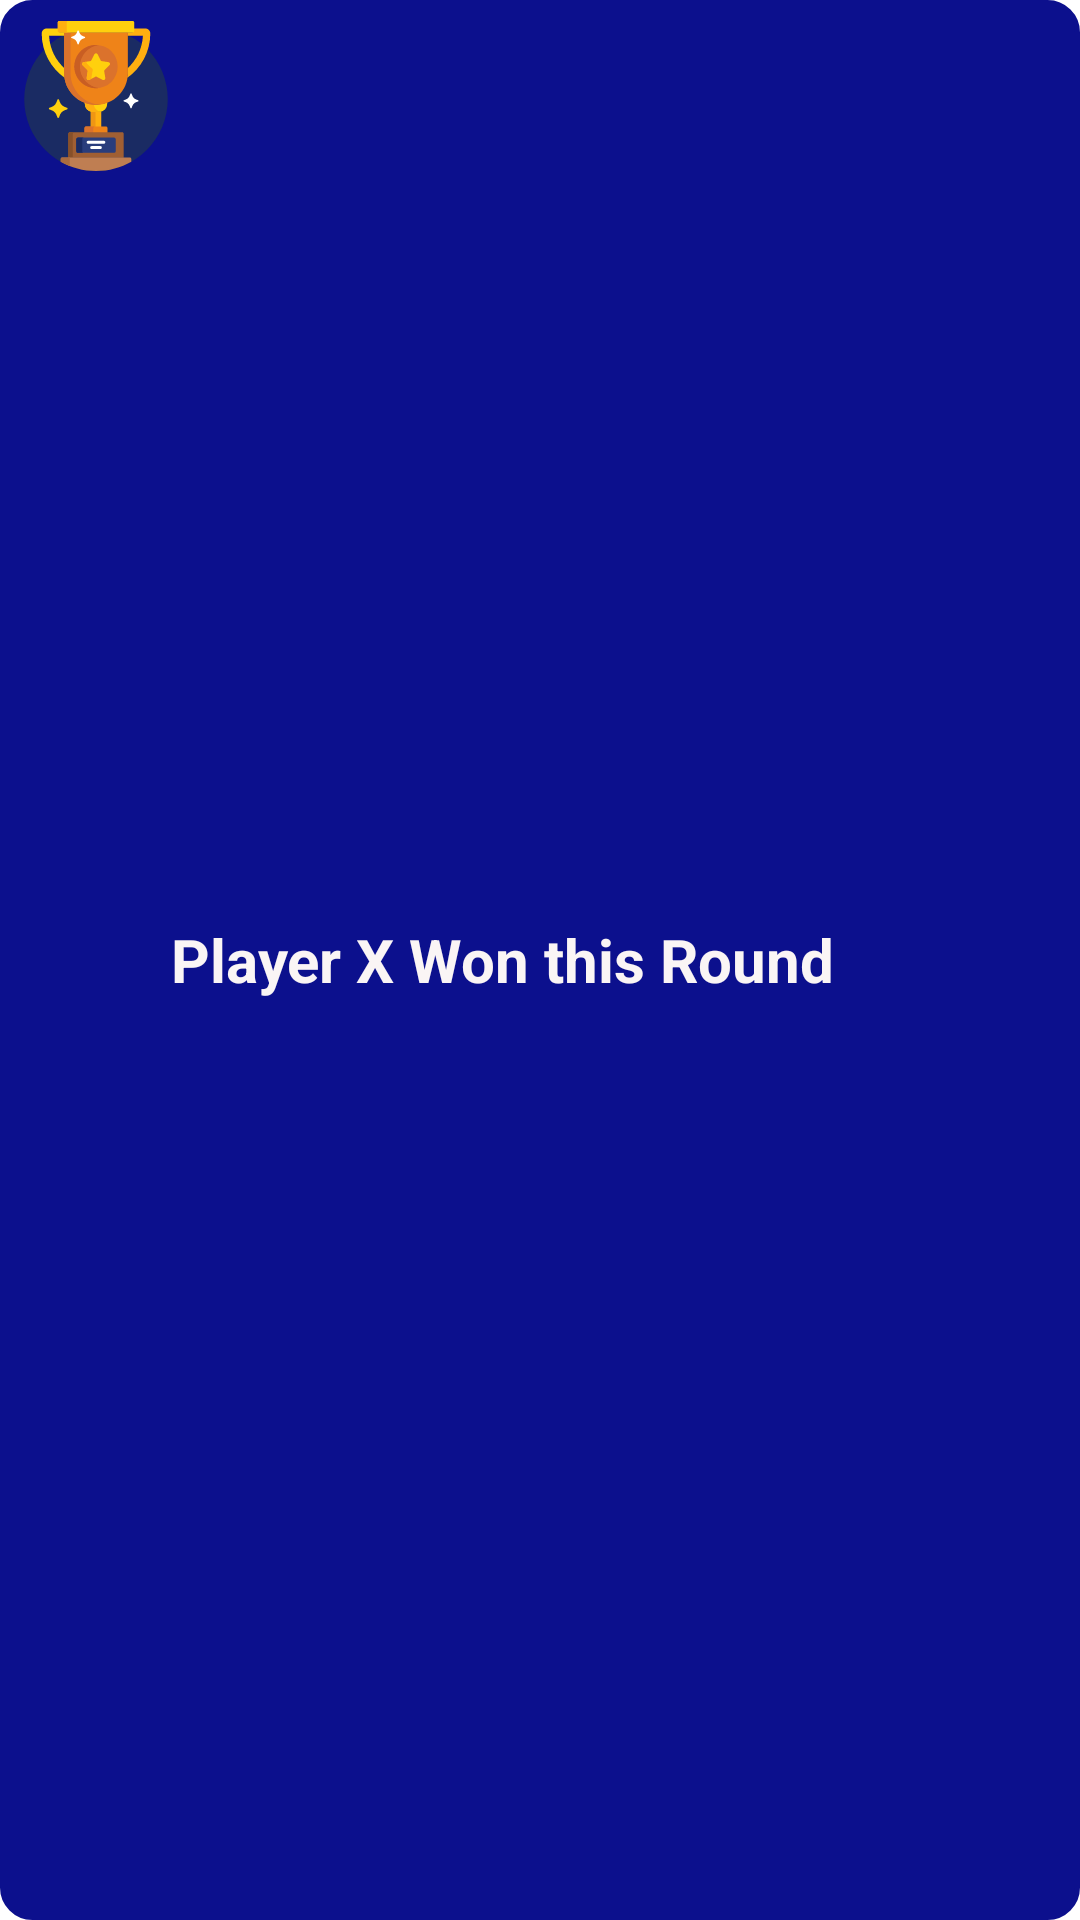

Icons on this 1080 x 1920 Android screen, each with its box as region(x1, y1, x2, y2):
trophy: region(24, 21, 168, 171)
